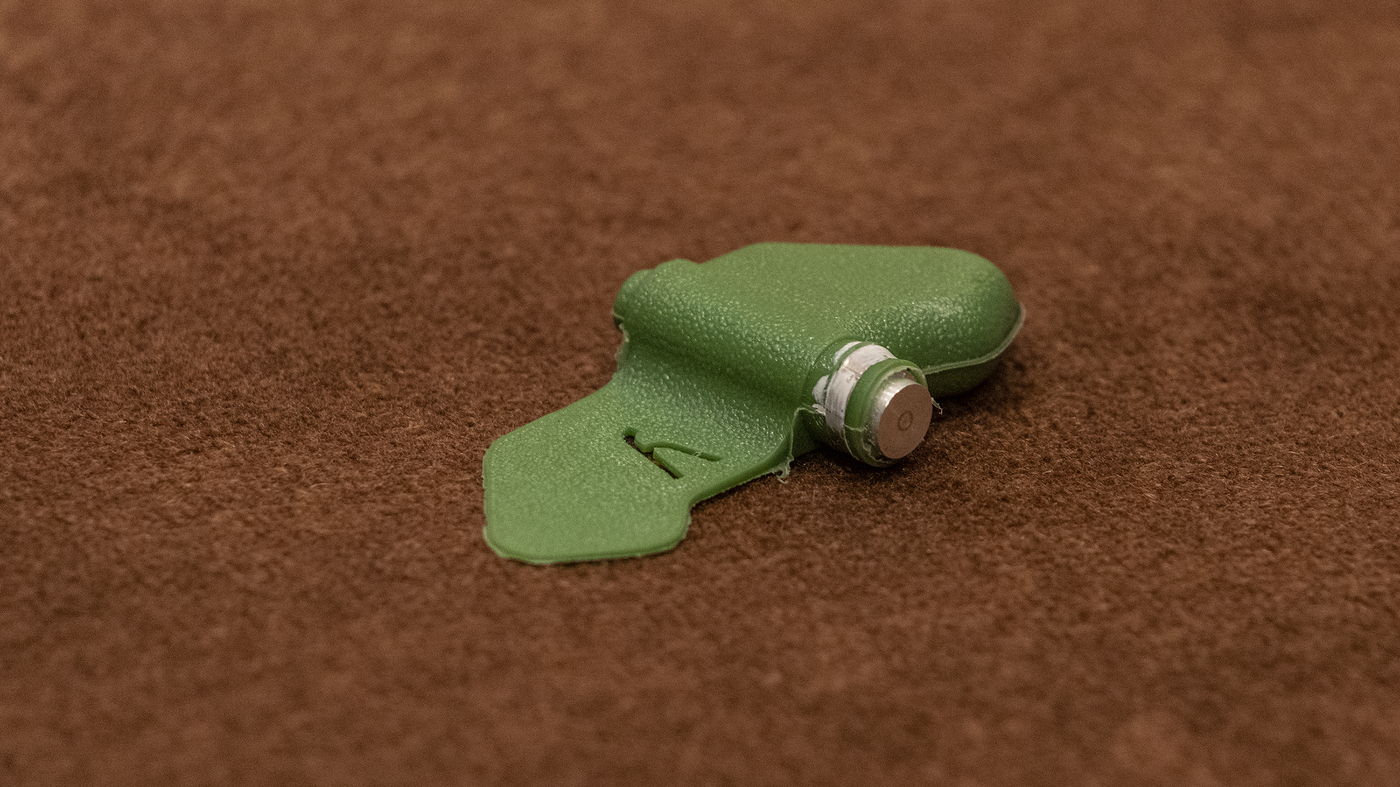butterfly: (465, 226, 1046, 587)
